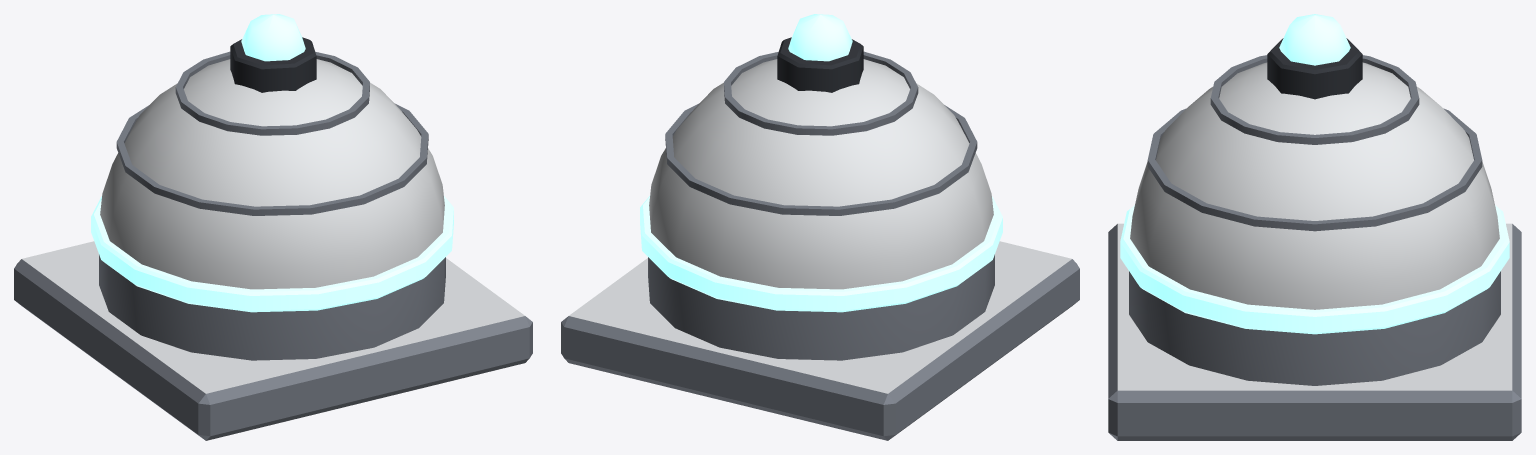
File: R4X_PersonalShield_LOD1.fbx
3 renders of one model, left to right at view 1: azimuth 30°, elevation 25°; view 2: azimuth 150°, elevation 25°; view 3: azimuth 270°, elevation 25°, orthographic. The views are drawn at different scales.
Visible parts, largest first — view 1: R4X_PersonalShield_LOD1; view 2: R4X_PersonalShield_LOD1; view 3: R4X_PersonalShield_LOD1.
Boxes of the visible parts, bbox=[...] form: R4X_PersonalShield_LOD1: bbox=[14, 14, 532, 440]; R4X_PersonalShield_LOD1: bbox=[561, 14, 1079, 440]; R4X_PersonalShield_LOD1: bbox=[1108, 14, 1521, 440].
Size of the model in its own units: 0.52 by 0.475 by 0.52.
